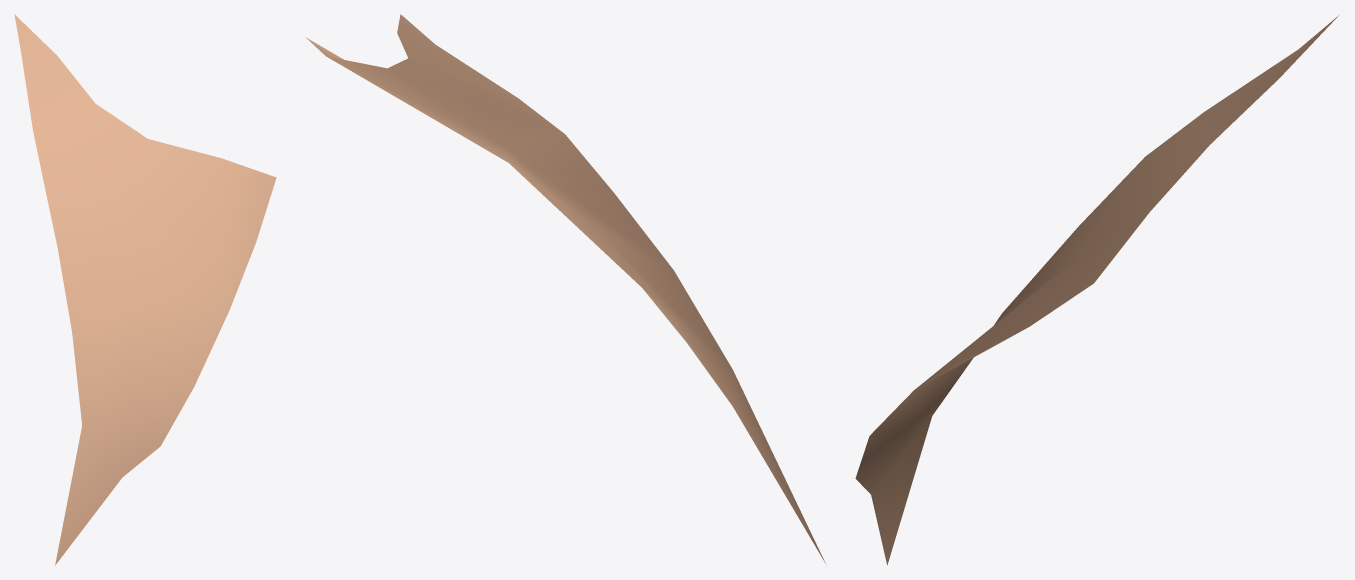
File: deltopectoral-triangle-r.glb
3 renders of one model, left to right at view 1: azimuth 30°, elevation 25°; view 2: azimuth 150°, elevation 25°; view 3: azimuth 270°, elevation 25°, orthographic. The views are drawn at different scales.
Visible parts, largest first — view 1: Deltopectoral triangle.r; view 2: Deltopectoral triangle.r; view 3: Deltopectoral triangle.r.
Part boxes in pixels (<box>): Deltopectoral triangle.r: <box>14,14,276,565</box>; Deltopectoral triangle.r: <box>305,14,825,563</box>; Deltopectoral triangle.r: <box>855,15,1338,565</box>.
Size of the model in its own units: 0.0429 by 0.0636 by 0.0442.
